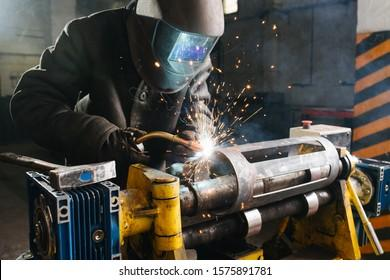gloves: (162, 127, 208, 164), (102, 133, 148, 168)
